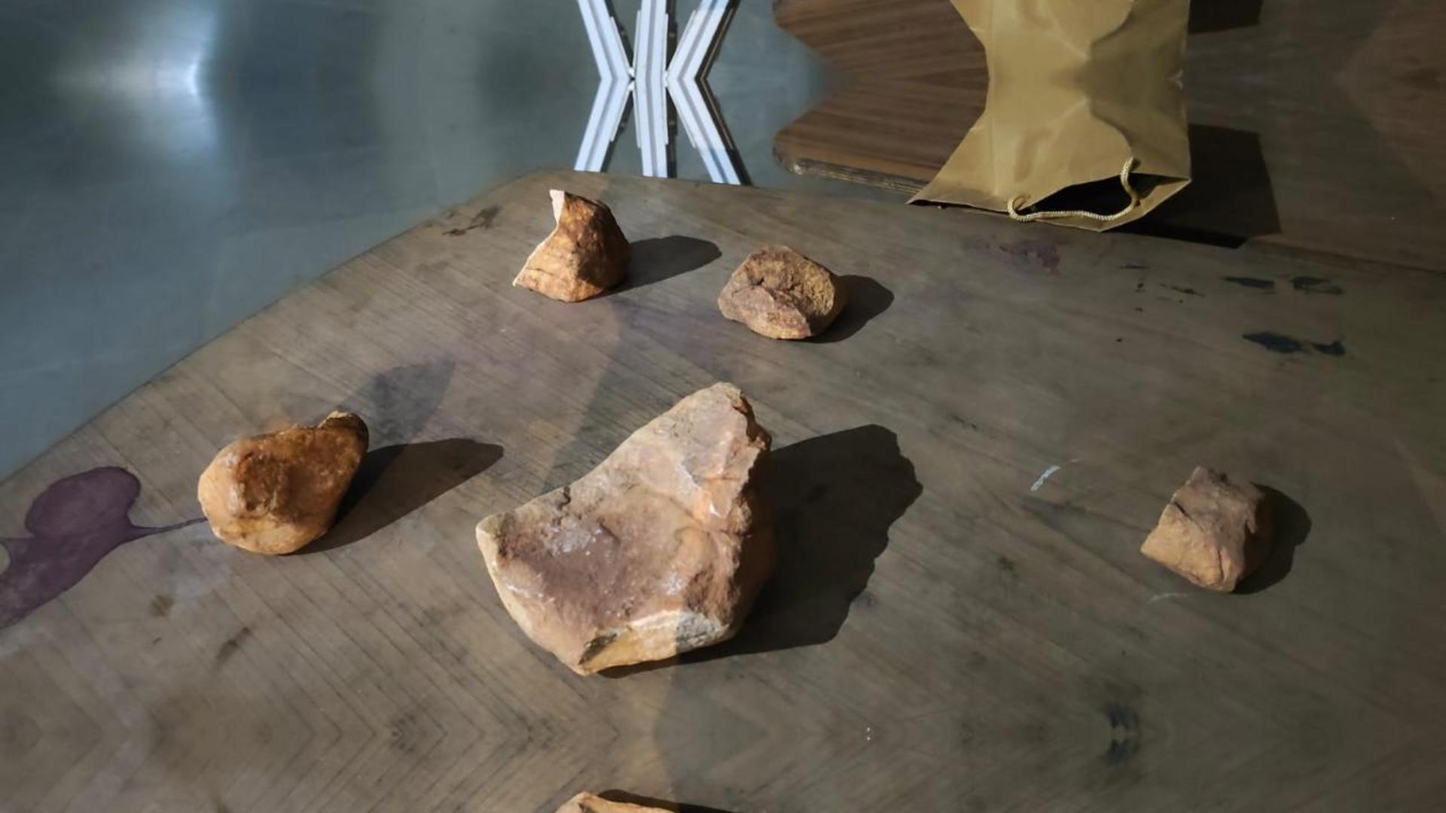rock: (476, 383, 774, 673), (198, 409, 367, 553), (1140, 465, 1273, 592), (512, 189, 629, 301), (717, 245, 846, 339), (555, 789, 733, 812)
